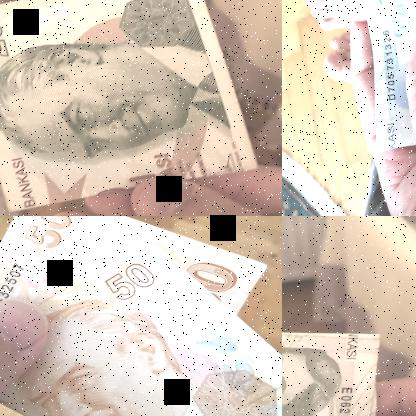5 TL: (0, 0, 261, 212)
